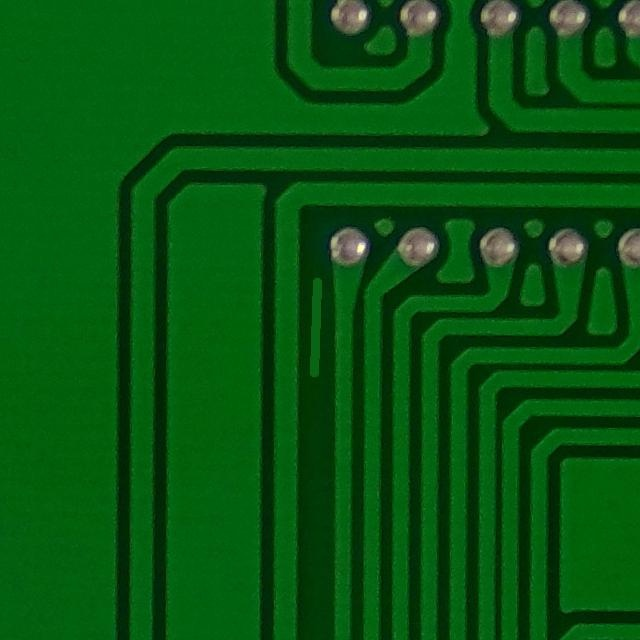spurious_copper: (296, 256, 344, 384)
